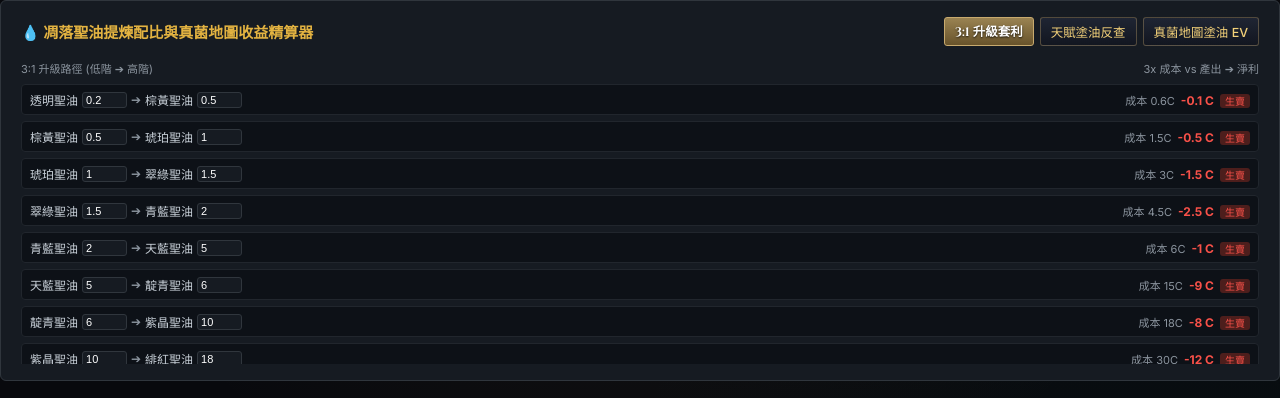
Test case: BlightOilCard › should switch to map EV tab, add oils, and update EV
Click the button "真菌地圖塗油 EV" at [1201, 32], box [1142,17,1259,46]
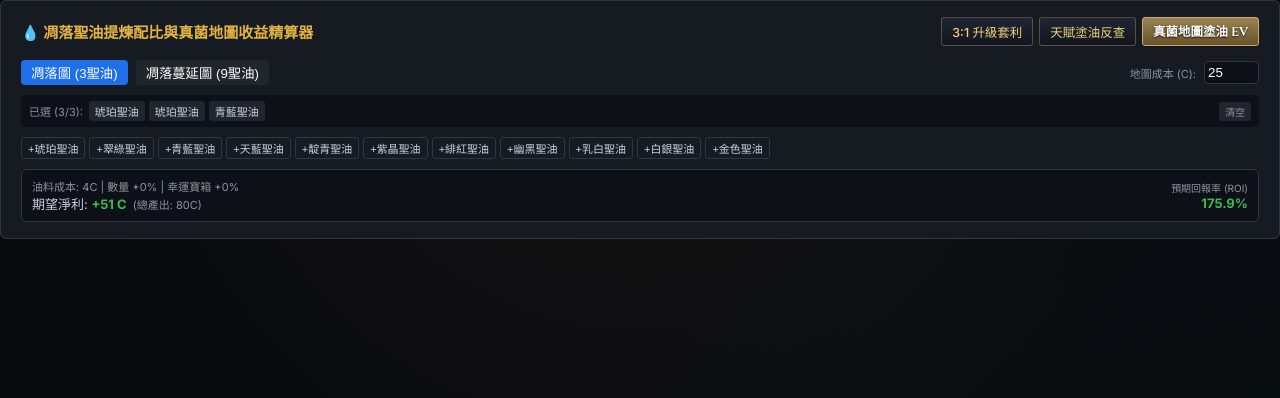
Result: the button "凋落圖 (3聖油)" is shown at [21,60,128,85]
Result: the text "油料成本: 4C | 數量 +0% | 幸運寶箱 +0%" is shown at [32,178,239,194]
Click the button "凋落蔓延圖 (9聖油)" at [202, 72], box [136,60,269,85]
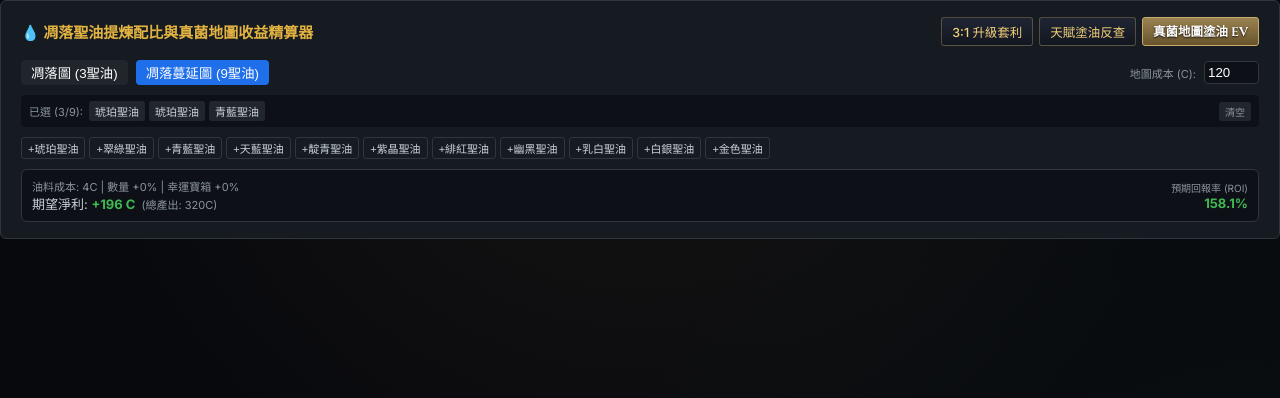
Result: the text "已選 (3/9):" is shown at [29,103,83,119]
Click the button "+緋紅聖油" at [464, 148], box [432,137,496,159]
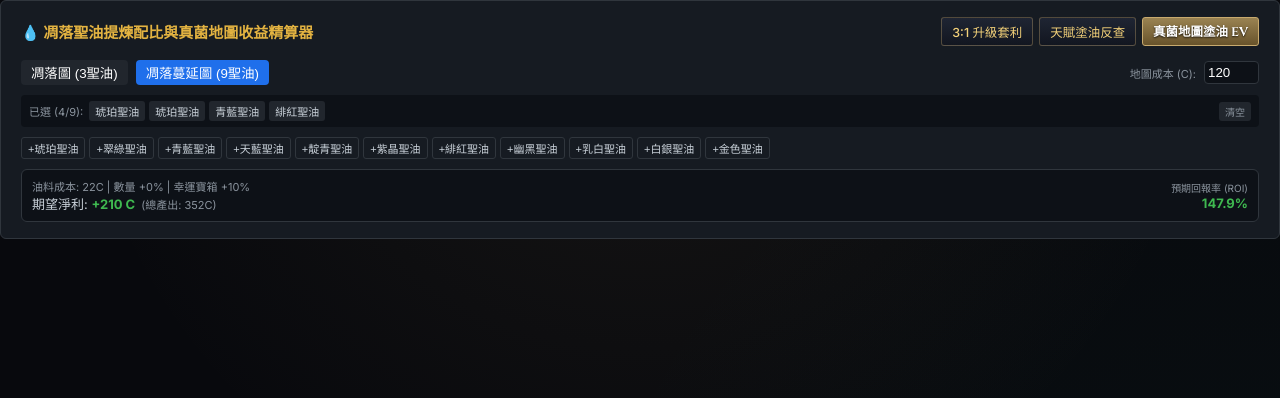
Result: the text "已選 (4/9):" is shown at [29,103,83,119]
